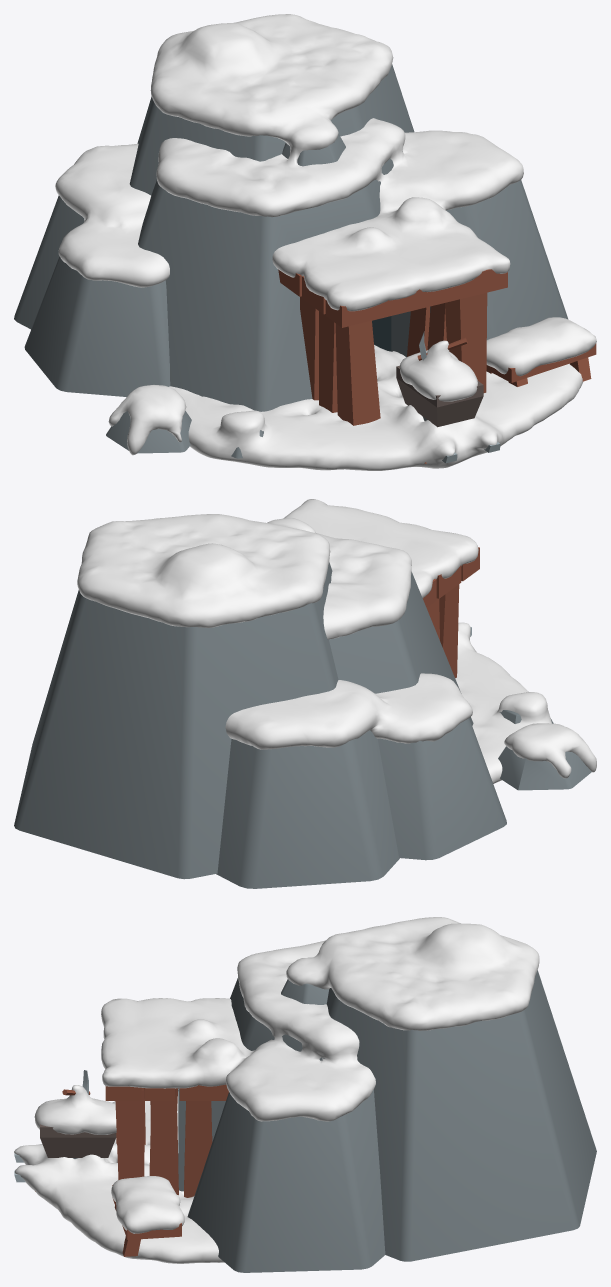
The model's file is mine.fbx.
3 views of the same model, one above another, from view 1: azimuth 30°, elevation 25°; view 2: azimuth 150°, elevation 25°; view 3: azimuth 270°, elevation 25° (orthographic). The views are drawn at different scales.
Visible parts, largest first — view 1: SnowBall.001, mine; view 2: mine, SnowBall.001; view 3: mine, SnowBall.001.
Part boxes in pixels (bbox=[...]): SnowBall.001: bbox=[55, 14, 596, 470]; mine: bbox=[14, 64, 596, 463]; mine: bbox=[14, 547, 591, 888]; SnowBall.001: bbox=[77, 499, 596, 783]; mine: bbox=[14, 970, 596, 1272]; SnowBall.001: bbox=[14, 917, 539, 1263].
Size of the model in its own units: 162 by 89.17 by 188.
